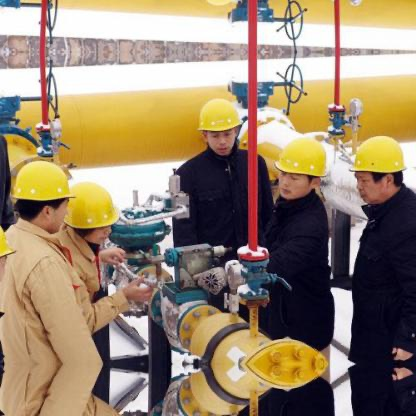Safety Helmet: (4, 159, 79, 238), (348, 128, 410, 210), (271, 133, 331, 211), (190, 93, 254, 164), (62, 176, 121, 250)
